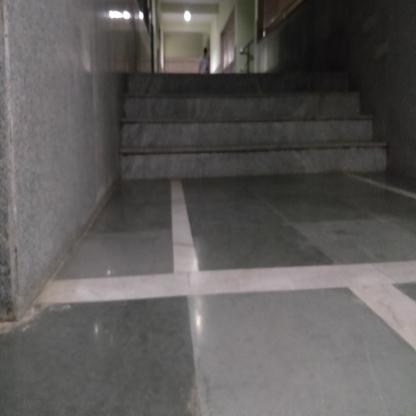stairs: (132, 68, 343, 194)
